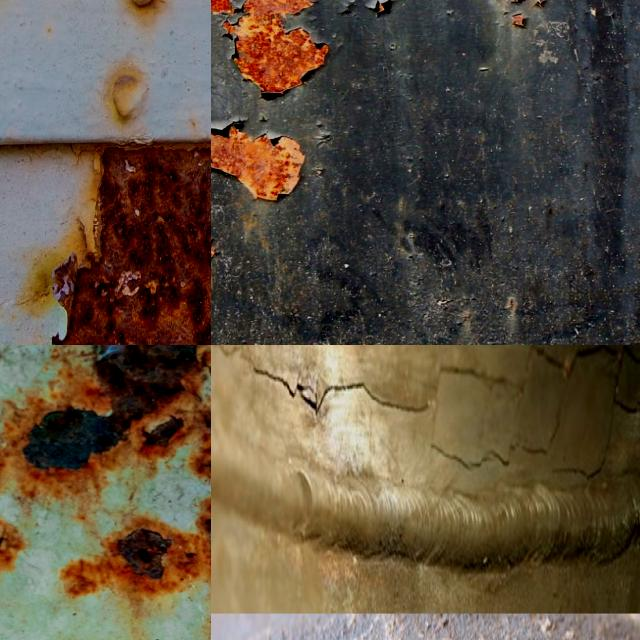Crack: (211, 345, 640, 516)
Pitting Corrosion: (0, 345, 211, 567), (52, 146, 211, 345), (83, 507, 211, 585)
Uniform Corrosion: (211, 0, 392, 93), (211, 116, 306, 201)
